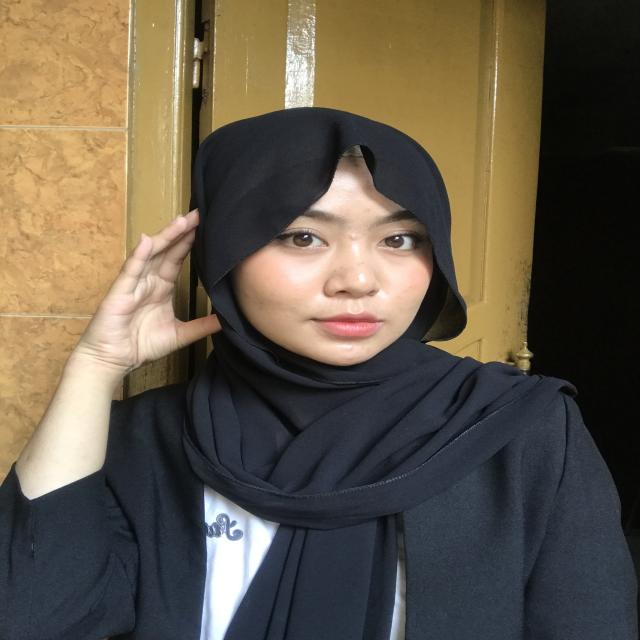mendengar: (77, 199, 240, 388)
